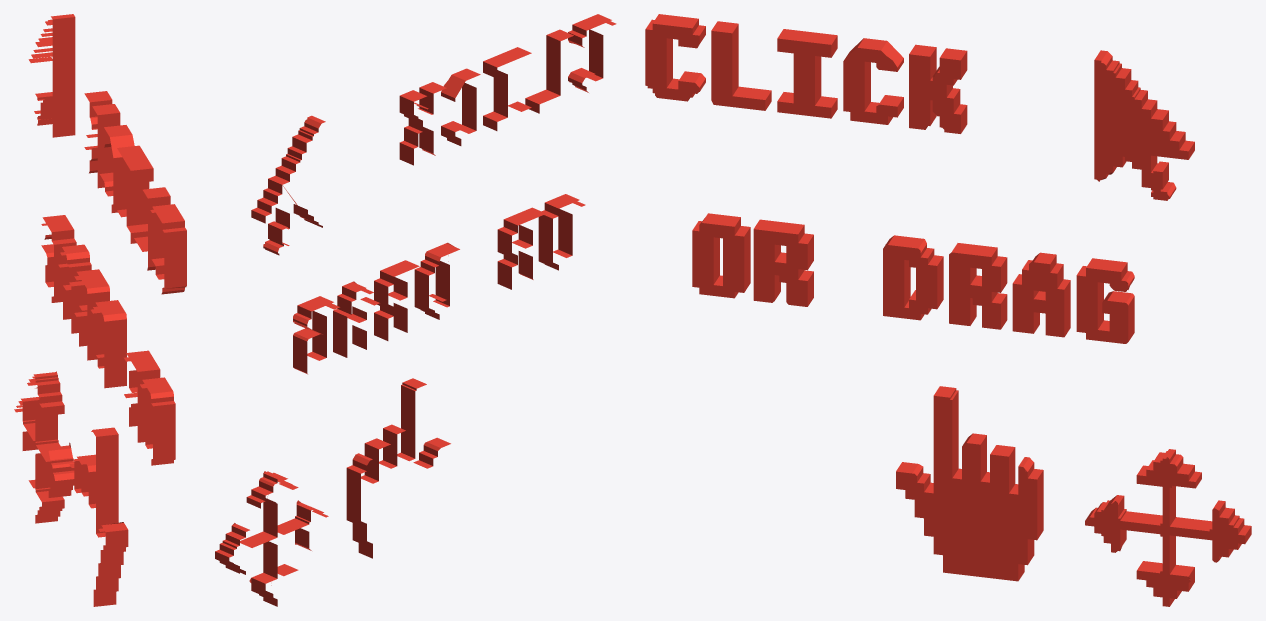
File: compressed_HologramHelper.glb
3 views of the same model, side by side, from view 1: azimuth 30°, elevation 25°; view 2: azimuth 150°, elevation 25°; view 3: azimuth 270°, elevation 25° (orthographic). The views are drawn at different scales.
Parts seen in each view (by area): view 1: Hologram; view 2: Hologram; view 3: Hologram.
Part boxes in pixels (left/top/right/bottom): Hologram: left=14, top=14, right=186, bottom=606; Hologram: left=215, top=14, right=616, bottom=606; Hologram: left=645, top=14, right=1251, bottom=606.
Size of the model in its own units: 1.36 by 4.17 by 4.26.
